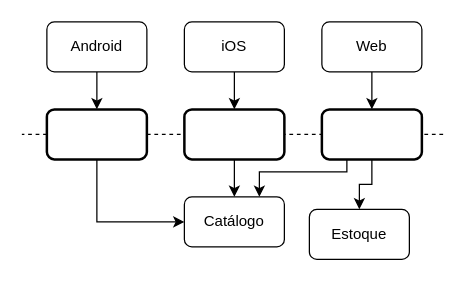
Image size: 470x281. Some labels were removed from this diagram. The centre of each missing label's shape, as x and y in pixels:
"Android BFF" goes at (96,134).
"iOS BFF" goes at (233,134).
"Web BFF" goes at (371,134).
